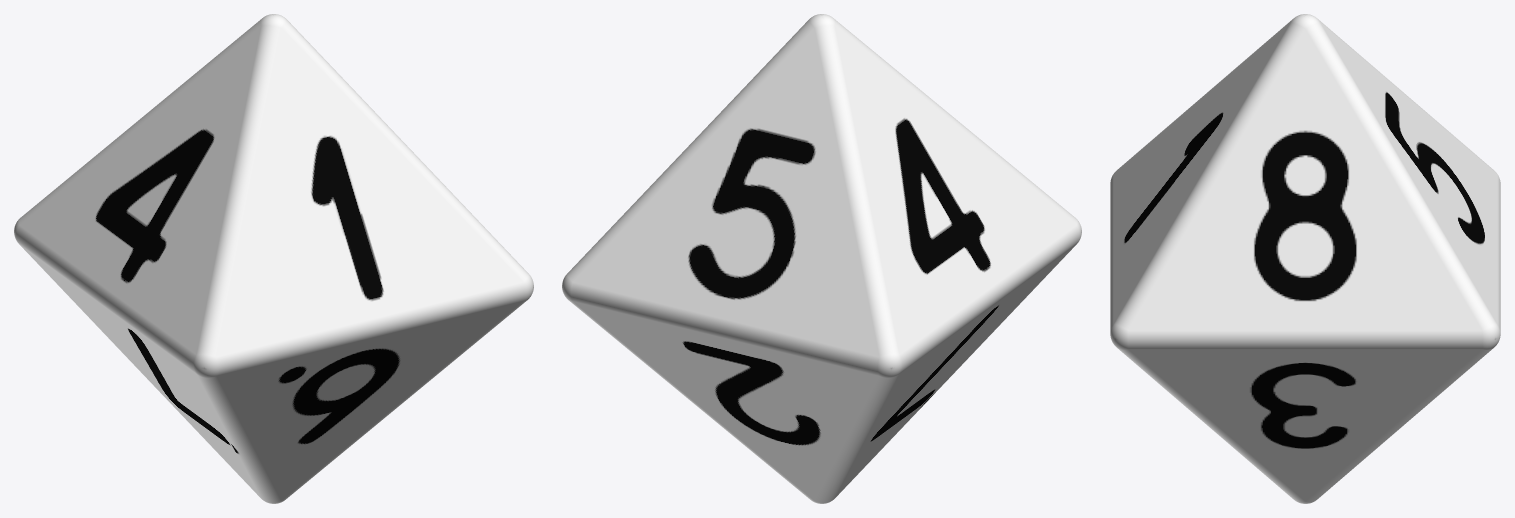
3 views of the same model, side by side, from view 1: azimuth 30°, elevation 25°; view 2: azimuth 150°, elevation 25°; view 3: azimuth 270°, elevation 25° (orthographic).
Visible parts, largest first — view 1: Regular D8; view 2: Regular D8; view 3: Regular D8.
Boxes of the visible parts, <box> form: Regular D8: <box>14,14,533,503</box>; Regular D8: <box>562,14,1081,503</box>; Regular D8: <box>1110,14,1500,503</box>.
Bounding box in the file's own units: 1.34 × 1.85 × 1.34.
Materials: 1 (1 with a texture image).
